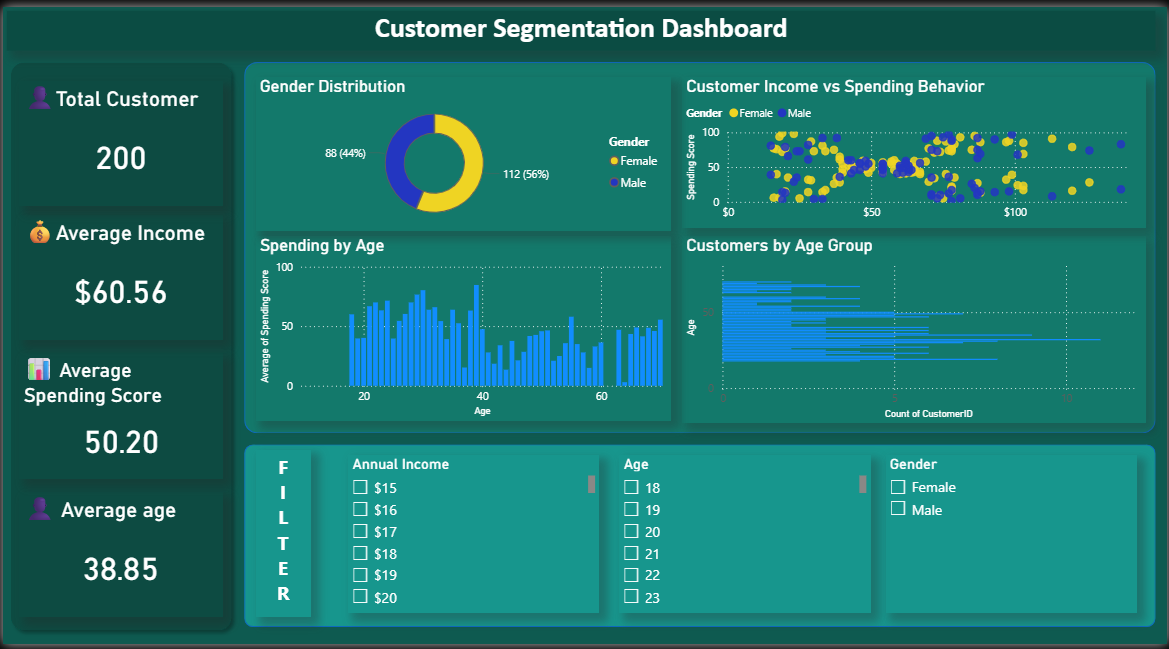

This screenshot's page, from the dashboard's own definition file:
{"tool":"powerbi","page":{"name":"Page 1","canvas":[1330,729],"ordinal":0},"visuals":[{"type":"shape","box":[275.7,500,1041.4,208.6],"z":0},{"type":"shape","box":[275.7,62.9,1041.4,424.3],"z":1000},{"type":"shape","box":[0,54,270,667],"z":2000},{"type":"card","title":"👤Total Customer","fields":{"Values":["CountNonNull(Mall_Customers.CustomerID)"]},"box":[18,84,233,143],"z":3000},{"type":"card","title":"💰Average Income","fields":{"Values":["Avg(Mall_Customers.Annual Income)"]},"box":[18.6,237,232.9,142.9],"z":4000},{"type":"card","title":"📊 Average Spending Score","fields":{"Values":["Avg(Mall_Customers.Spending Score)"]},"box":[18.6,395,233,143],"z":5000},{"type":"donutChart","title":"Gender Distribution","fields":{"Category":["Mall_Customers.Gender"],"Y":["CountNonNull(Mall_Customers.CustomerID)"]},"box":[288.6,80,475,175.7],"z":6000},{"type":"clusteredBarChart","title":"Customers by Age Group","fields":{"Y":["CountNonNull(Mall_Customers.CustomerID)"],"Category":["Mall_Customers.Age"]},"box":[775,261,530,214.3],"z":7000},{"type":"scatterChart","title":"Customer Income vs Spending Behavior","fields":{"X":["Mall_Customers.Annual Income"],"Y":["Mall_Customers.Spending Score"],"Series":["Mall_Customers.Gender"]},"box":[775,80,530,172.9],"z":8000},{"type":"clusteredColumnChart","title":"Spending by Age","fields":{"Y":["Avg(Mall_Customers.Spending Score)"],"Category":["Mall_Customers.Age"]},"box":[288.6,261,475,211.4],"z":9000},{"type":"textbox","title":"Customer Segmentation Dashboard","box":[4.3,4.3,1312.9,45.7],"z":10000},{"type":"listSlicer","fields":{"Values":["Mall_Customers.Age"]},"box":[704.3,511.4,287.1,181.4],"z":12000},{"type":"listSlicer","fields":{"Values":["Mall_Customers.Annual Income"]},"box":[394.3,511.4,287.1,181.4],"z":13000},{"type":"card","title":"👤 Average age","fields":{"Values":["Avg(Mall_Customers.Age)"]},"box":[18.6,554,232.9,142.9],"z":14000},{"type":"listSlicer","fields":{"Values":["Mall_Customers.Gender"]},"box":[1008.6,511.4,287.1,181.4],"z":14001},{"type":"textbox","box":[288.6,505.7,62.9,191.4],"z":14002}]}

Visuals, with their boxes in screenshot pixels (x1, y1, x2, y2), scaled from the page's 1330x729 canvas onto the 1169x649 screenshot:
shape: <bbox>242, 445, 1158, 631</bbox>
shape: <bbox>242, 56, 1158, 434</bbox>
shape: <bbox>0, 48, 237, 642</bbox>
"👤Total Customer" card: <bbox>16, 75, 221, 202</bbox>
"💰Average Income" card: <bbox>16, 211, 221, 338</bbox>
"📊 Average Spending Score" card: <bbox>16, 352, 221, 479</bbox>
"Gender Distribution" donutChart: <bbox>254, 71, 671, 228</bbox>
"Customers by Age Group" clusteredBarChart: <bbox>681, 232, 1147, 423</bbox>
"Customer Income vs Spending Behavior" scatterChart: <bbox>681, 71, 1147, 225</bbox>
"Spending by Age" clusteredColumnChart: <bbox>254, 232, 671, 421</bbox>
"Customer Segmentation Dashboard" textbox: <bbox>4, 4, 1158, 45</bbox>
listSlicer - Mall_Customers.Age: <bbox>619, 455, 871, 617</bbox>
listSlicer - Mall_Customers.Annual Income: <bbox>347, 455, 599, 617</bbox>
"👤 Average age" card: <bbox>16, 493, 221, 620</bbox>
listSlicer - Mall_Customers.Gender: <bbox>887, 455, 1139, 617</bbox>
textbox: <bbox>254, 450, 309, 621</bbox>
